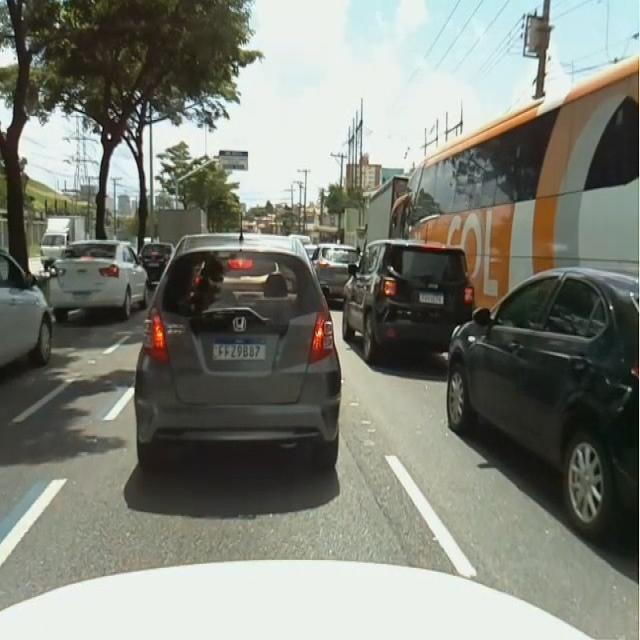bus: (408, 58, 639, 306)
car: (448, 268, 639, 537), (135, 234, 340, 470), (0, 561, 592, 640), (342, 239, 474, 363), (50, 240, 148, 321), (0, 251, 52, 366), (311, 244, 359, 301), (212, 344, 266, 361)
